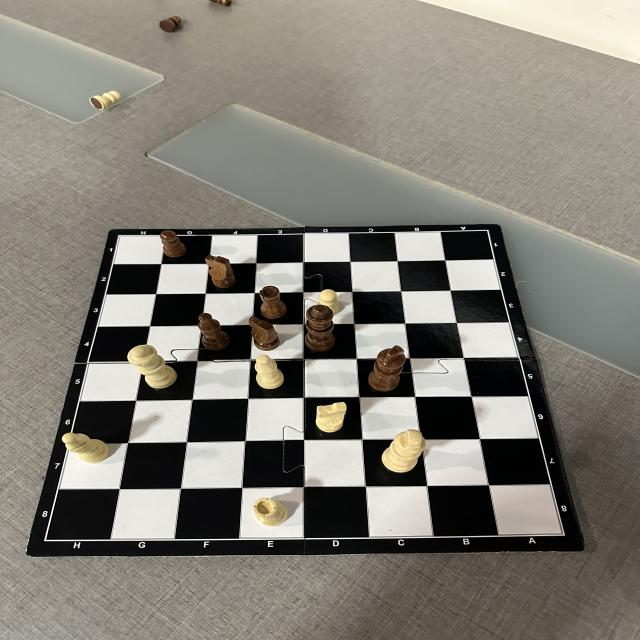Black-Bishop: (197, 313, 230, 351)
Black-King: (368, 345, 406, 392)
Black-Knight: (249, 315, 280, 351), (204, 255, 237, 288)
Black-Pawn: (159, 230, 187, 257), (159, 16, 182, 32), (207, 0, 232, 7)
Black-Queen: (305, 305, 335, 352)
Black-Rook: (259, 286, 288, 318)
White-Bishop: (62, 432, 109, 464), (254, 354, 285, 390)
White-King: (382, 429, 426, 474)
White-Knight: (315, 402, 347, 433)
White-Pawn: (92, 90, 122, 110), (317, 288, 338, 314)
White-Queen: (126, 344, 178, 389)
White-Rook: (253, 497, 287, 526)
